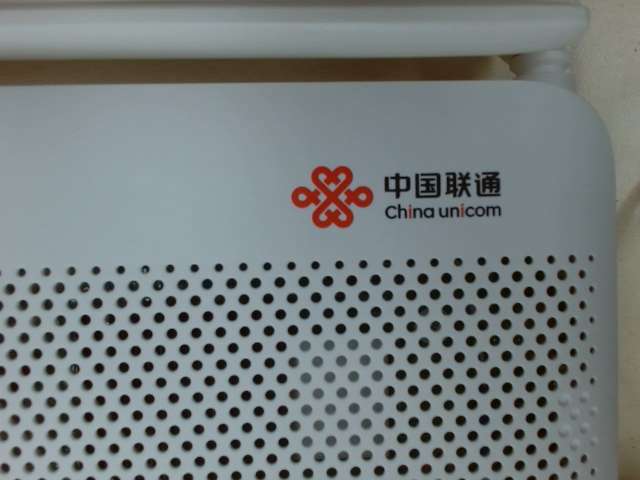AD_ChinaUnicom: (279, 155, 521, 241)
